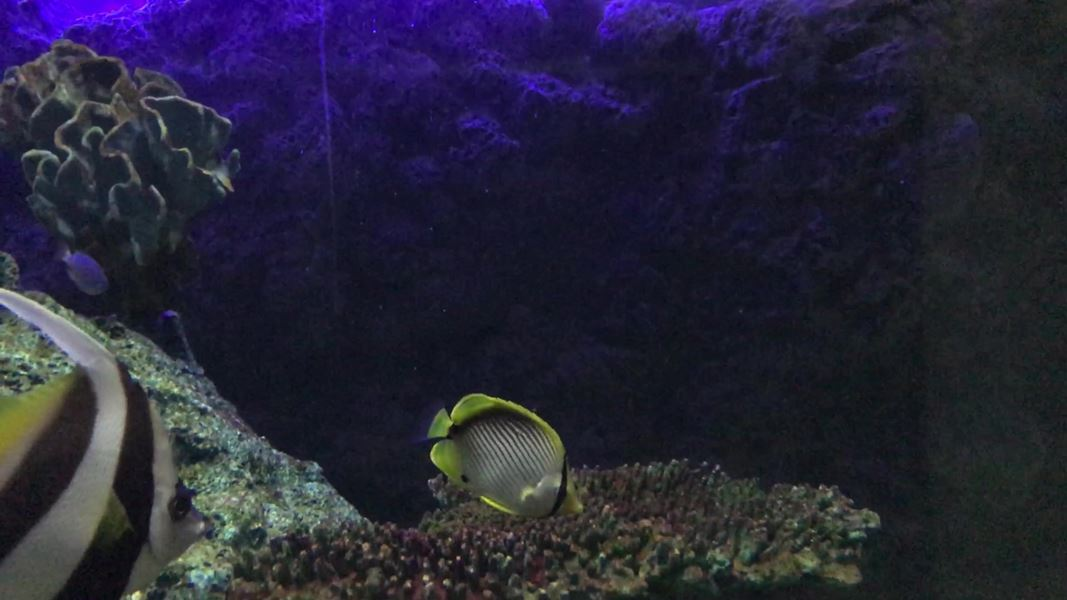Black-backed butterflyfish: (404, 385, 600, 531)
